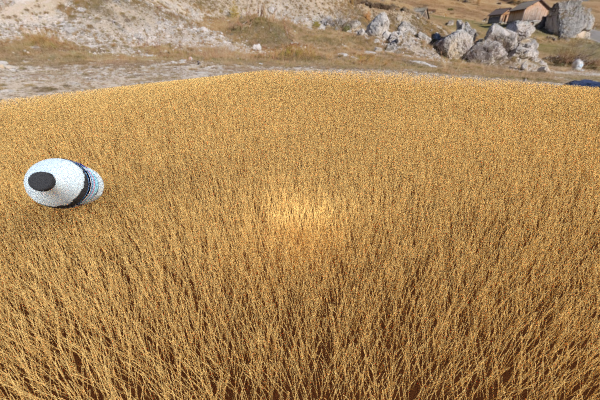Plastic Bottle: (23, 158, 103, 208)
